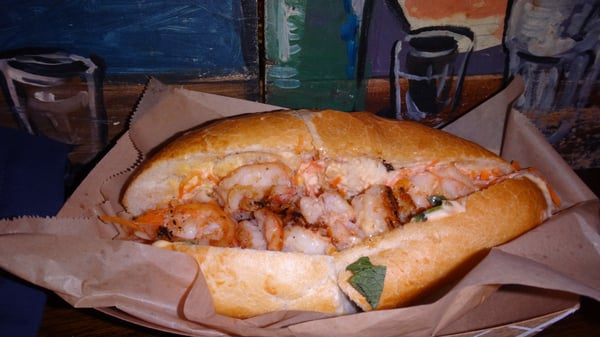soup: (105, 106, 548, 319)
